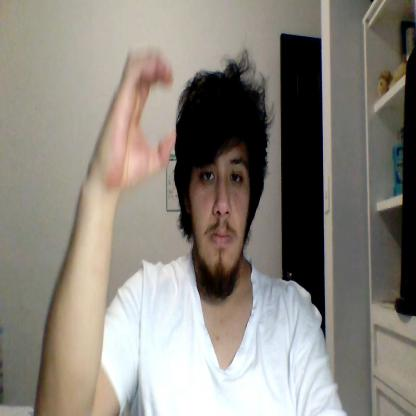C: (104, 47, 174, 190)
